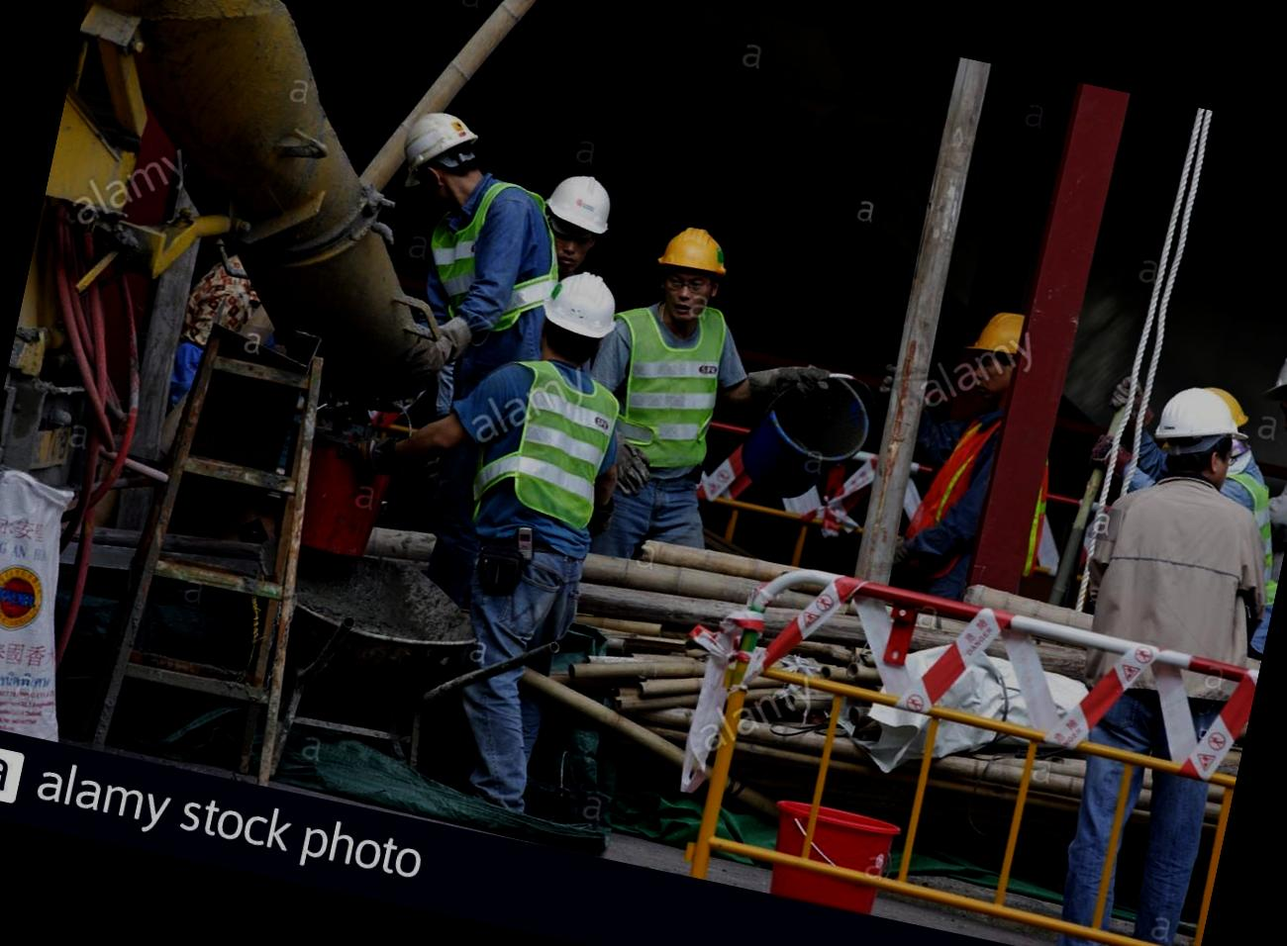helmet: (1146, 378, 1245, 450), (541, 266, 626, 343), (394, 108, 478, 175), (654, 218, 729, 274)
person: (1027, 371, 1287, 946), (414, 246, 659, 828), (342, 95, 591, 398), (582, 210, 774, 557)
